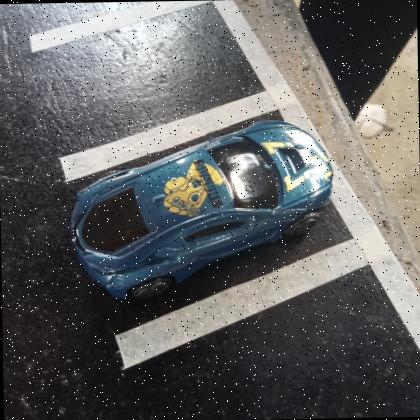Car: (69, 118, 334, 302)
